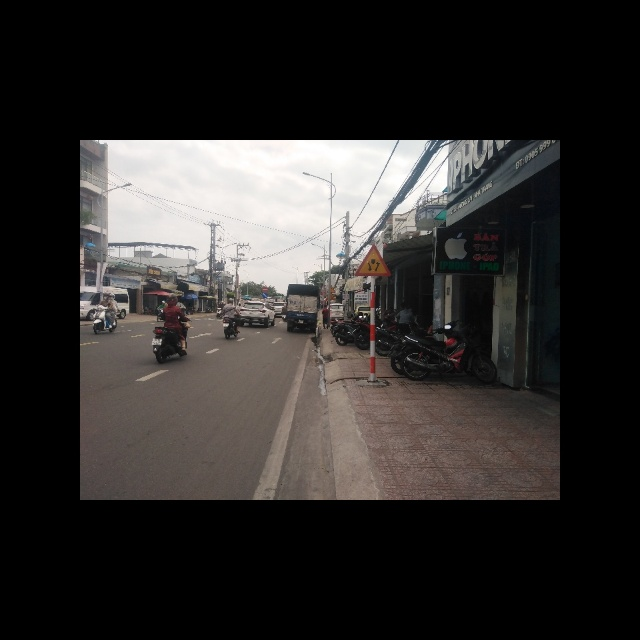Đường đôi: (355, 244, 392, 277)
